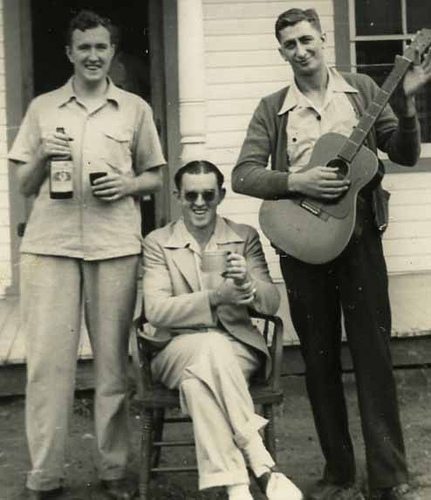without_mask: (175, 167, 227, 230), (65, 25, 118, 85), (275, 21, 328, 77)
